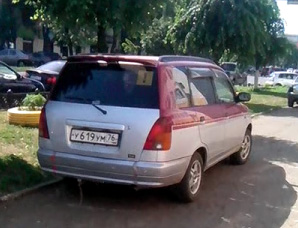car license plate: (70, 127, 120, 148)
